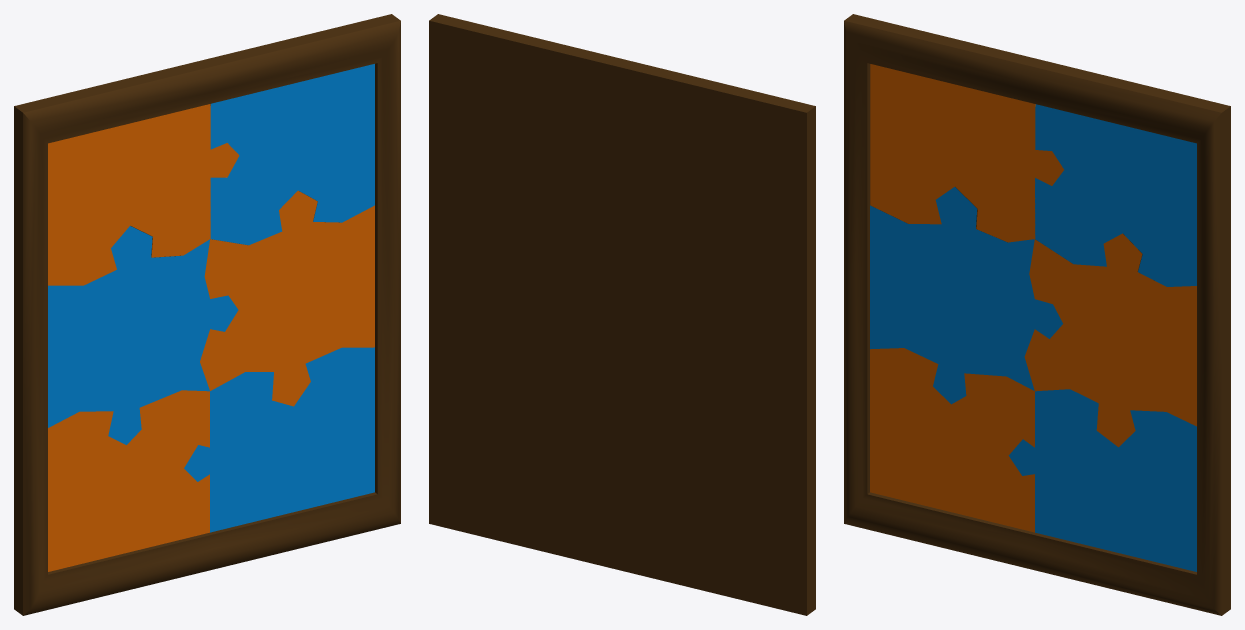
The model's file is QuebraCabeca_DuasCores.fbx.
3 views of the same model, side by side, from view 1: azimuth 30°, elevation 25°; view 2: azimuth 150°, elevation 25°; view 3: azimuth 330°, elevation 25° (orthographic).
Visible parts, largest first — view 1: Moldura, Peca_2A, Peca_2B, Peca_3B, Peca_1A, Peca_1B, Peca_3A; view 2: Moldura; view 3: Moldura, Peca_2A, Peca_2B, Peca_3B, Peca_1A, Peca_3A, Peca_1B.
Part boxes in pixels (left/top/right/bottom): Moldura: left=14, top=14, right=400, bottom=615; Peca_2A: left=48, top=226, right=238, bottom=444; Peca_2B: left=200, top=190, right=374, bottom=406; Peca_3B: left=184, top=347, right=374, bottom=532; Peca_1A: left=48, top=104, right=239, bottom=285; Peca_1B: left=210, top=64, right=374, bottom=245; Peca_3A: left=48, top=390, right=209, bottom=571; Moldura: left=429, top=14, right=815, bottom=615; Moldura: left=844, top=14, right=1230, bottom=615; Peca_2A: left=870, top=187, right=1062, bottom=404; Peca_2B: left=1024, top=233, right=1196, bottom=447; Peca_3B: left=1008, top=389, right=1196, bottom=571; Peca_1A: left=870, top=64, right=1063, bottom=242; Peca_3A: left=870, top=348, right=1034, bottom=532; Peca_1B: left=1035, top=104, right=1196, bottom=286.
Size of the model in its own units: 50.6 by 64.4 by 2.85.
